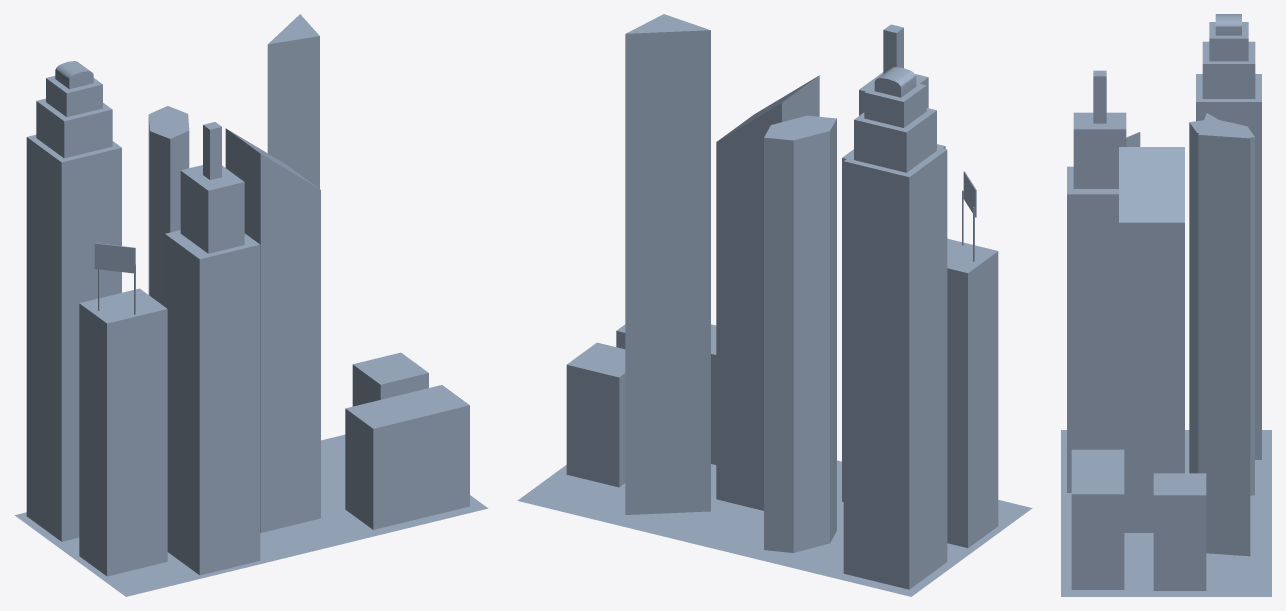
Rendered from Cybercity_mod2.fbx.
The picture shows the model from 3 angles, left to right: view 1: azimuth 30°, elevation 25°; view 2: azimuth 150°, elevation 25°; view 3: azimuth 270°, elevation 25°; orthographic projection. The views are drawn at different scales.
Visible parts, largest first — view 1: right_side_City_mod2_tall_building3; view 2: right_side_City_mod2_tall_building3; view 3: right_side_City_mod2_tall_building3.
Boxes of the visible parts, box(x1,y1,x2,y2) form: right_side_City_mod2_tall_building3: box(15, 14, 488, 596); right_side_City_mod2_tall_building3: box(517, 14, 1032, 596); right_side_City_mod2_tall_building3: box(1061, 14, 1271, 596).
Bounding box in the file's own units: 30 × 36.04 × 16.
